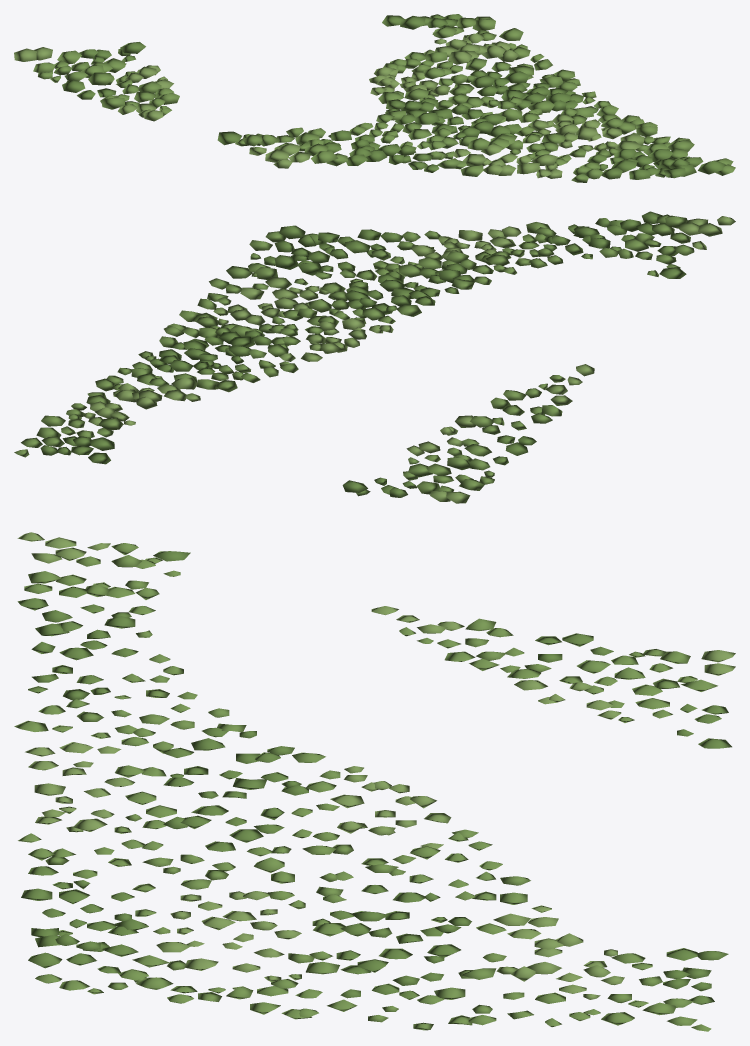
File: canopy-1--6--5.glb
The picture shows the model from 3 angles, top to bottom: view 1: azimuth 30°, elevation 25°; view 2: azimuth 150°, elevation 25°; view 3: azimuth 270°, elevation 25°; orthographic projection. The views are drawn at different scales.
Size of the model in its own units: 512 by 168 by 520.
1 material, 1 textured.
